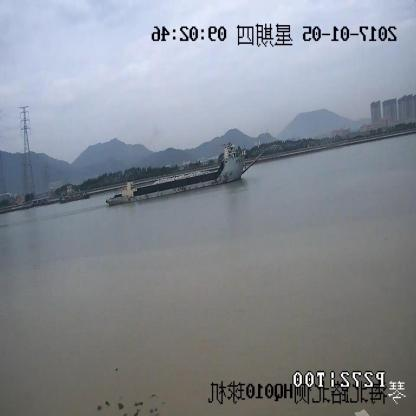Bulk Carrier: (109, 144, 263, 208)
